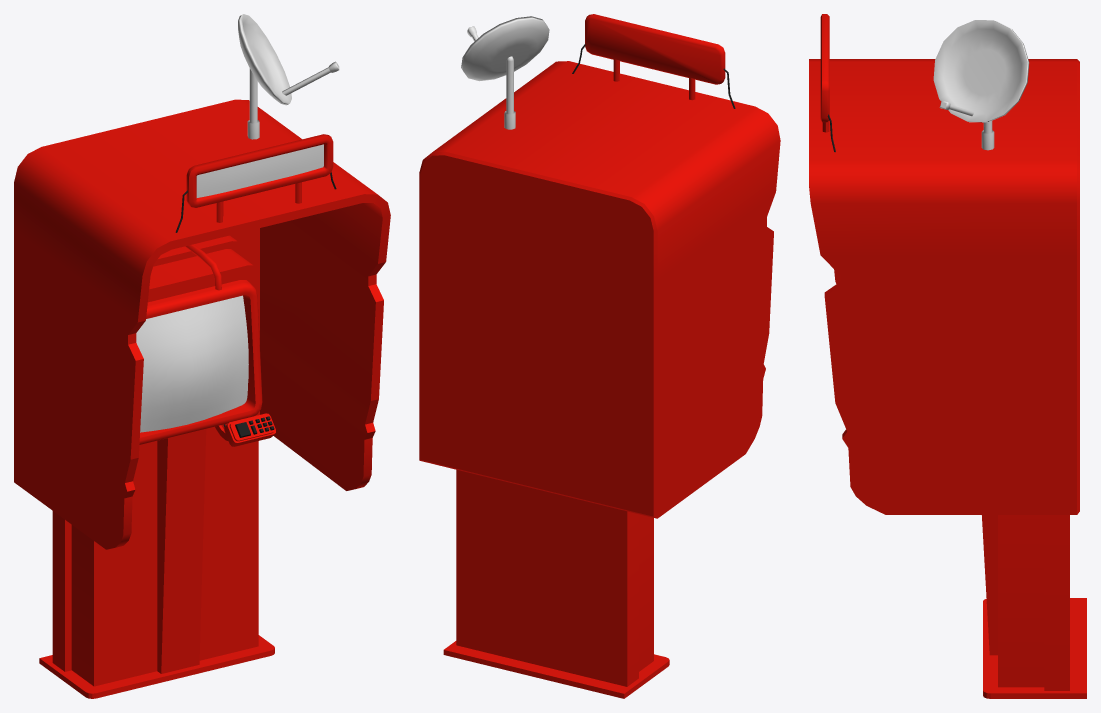
The model's file is PhoneBoxLow.fbx.
The picture shows the model from 3 angles, left to right: view 1: azimuth 30°, elevation 25°; view 2: azimuth 150°, elevation 25°; view 3: azimuth 270°, elevation 25°; orthographic projection. The views are drawn at different scales.
Parts seen in each view (by area): view 1: Plane.003, Plane.013, Plane.000, Plane.004, Plane.002; view 2: Plane.003, Plane.013, Plane.004; view 3: Plane.003, Plane.013, Plane.004.
Boxes of the visible parts, x1,y1,x2,y2 form: Plane.003: [14, 99, 390, 549]; Plane.013: [39, 134, 333, 698]; Plane.000: [136, 144, 323, 432]; Plane.004: [238, 14, 339, 139]; Plane.002: [175, 172, 336, 437]; Plane.003: [419, 61, 780, 518]; Plane.013: [443, 14, 725, 698]; Plane.004: [461, 16, 549, 129]; Plane.003: [809, 59, 1079, 514]; Plane.013: [820, 14, 1086, 698]; Plane.004: [933, 20, 1029, 150].
Size of the model in its own units: 320 by 746 by 283.
